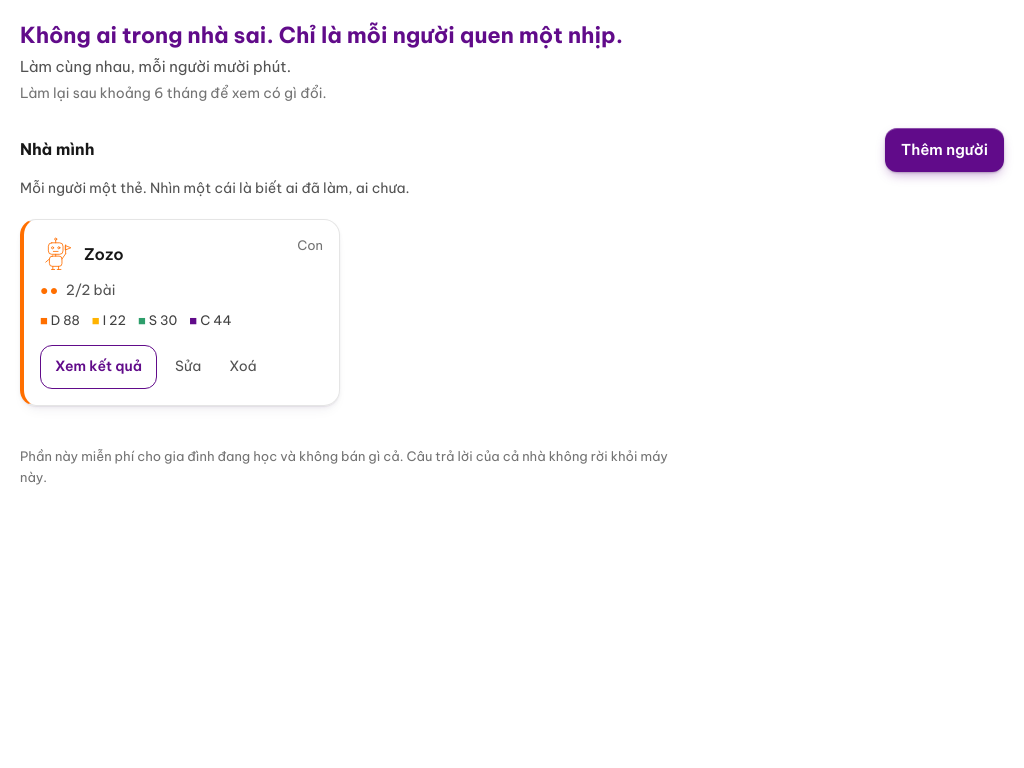
🔴 RANH GIỚI — dải này KHÔNG được so sánh hai bài › hai bài cách nhau vài GIỜ ⇒ không một chữ nào của khối so sánh hiện ra
Expected: the heading "Zozo" is shown, [84,242,124,266]
Click the button "Xem kết quả": click(98, 367) [40,345,157,389]
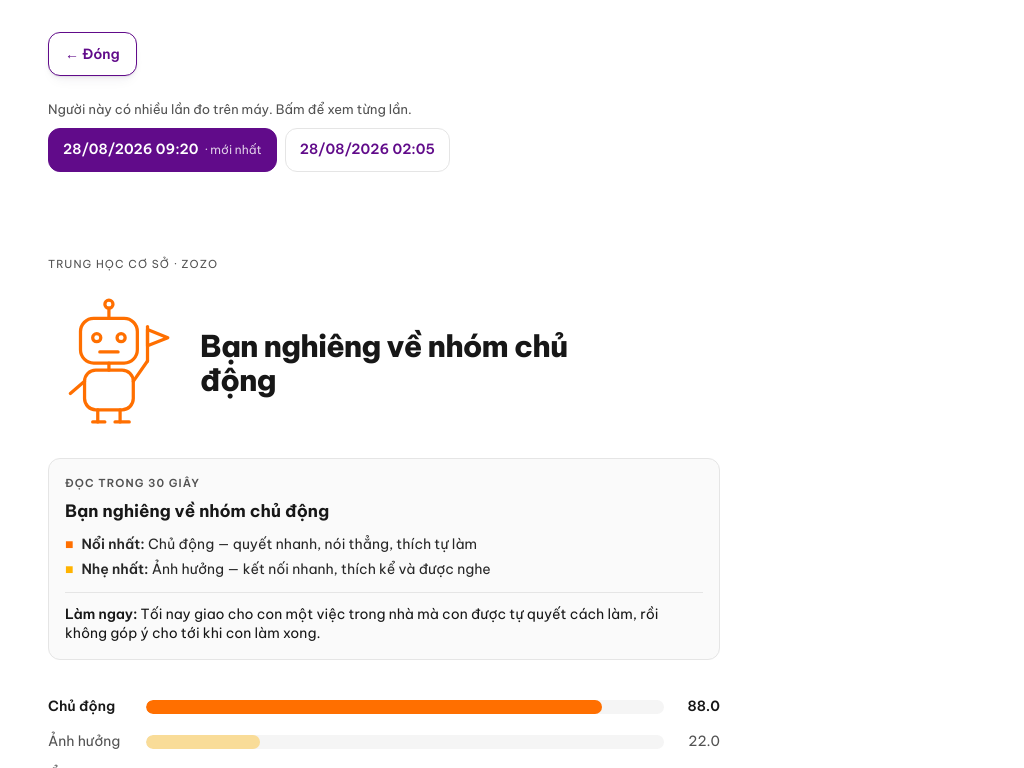
Expected: the navigation bar is shown, [48,101,450,172]
